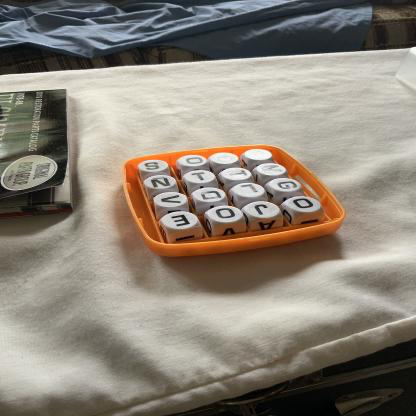d: (194, 189, 227, 204)
e: (163, 213, 198, 231)
g: (271, 179, 302, 193)
j: (246, 202, 281, 219)
l: (235, 184, 266, 199)
m: (258, 164, 286, 177)
n: (144, 176, 176, 190), (246, 150, 273, 162)
o: (210, 207, 244, 223), (289, 198, 322, 213), (180, 156, 208, 168), (212, 153, 239, 165)
s: (139, 161, 169, 172)
t: (185, 171, 216, 185), (222, 169, 253, 181)
v: (154, 194, 188, 209)
